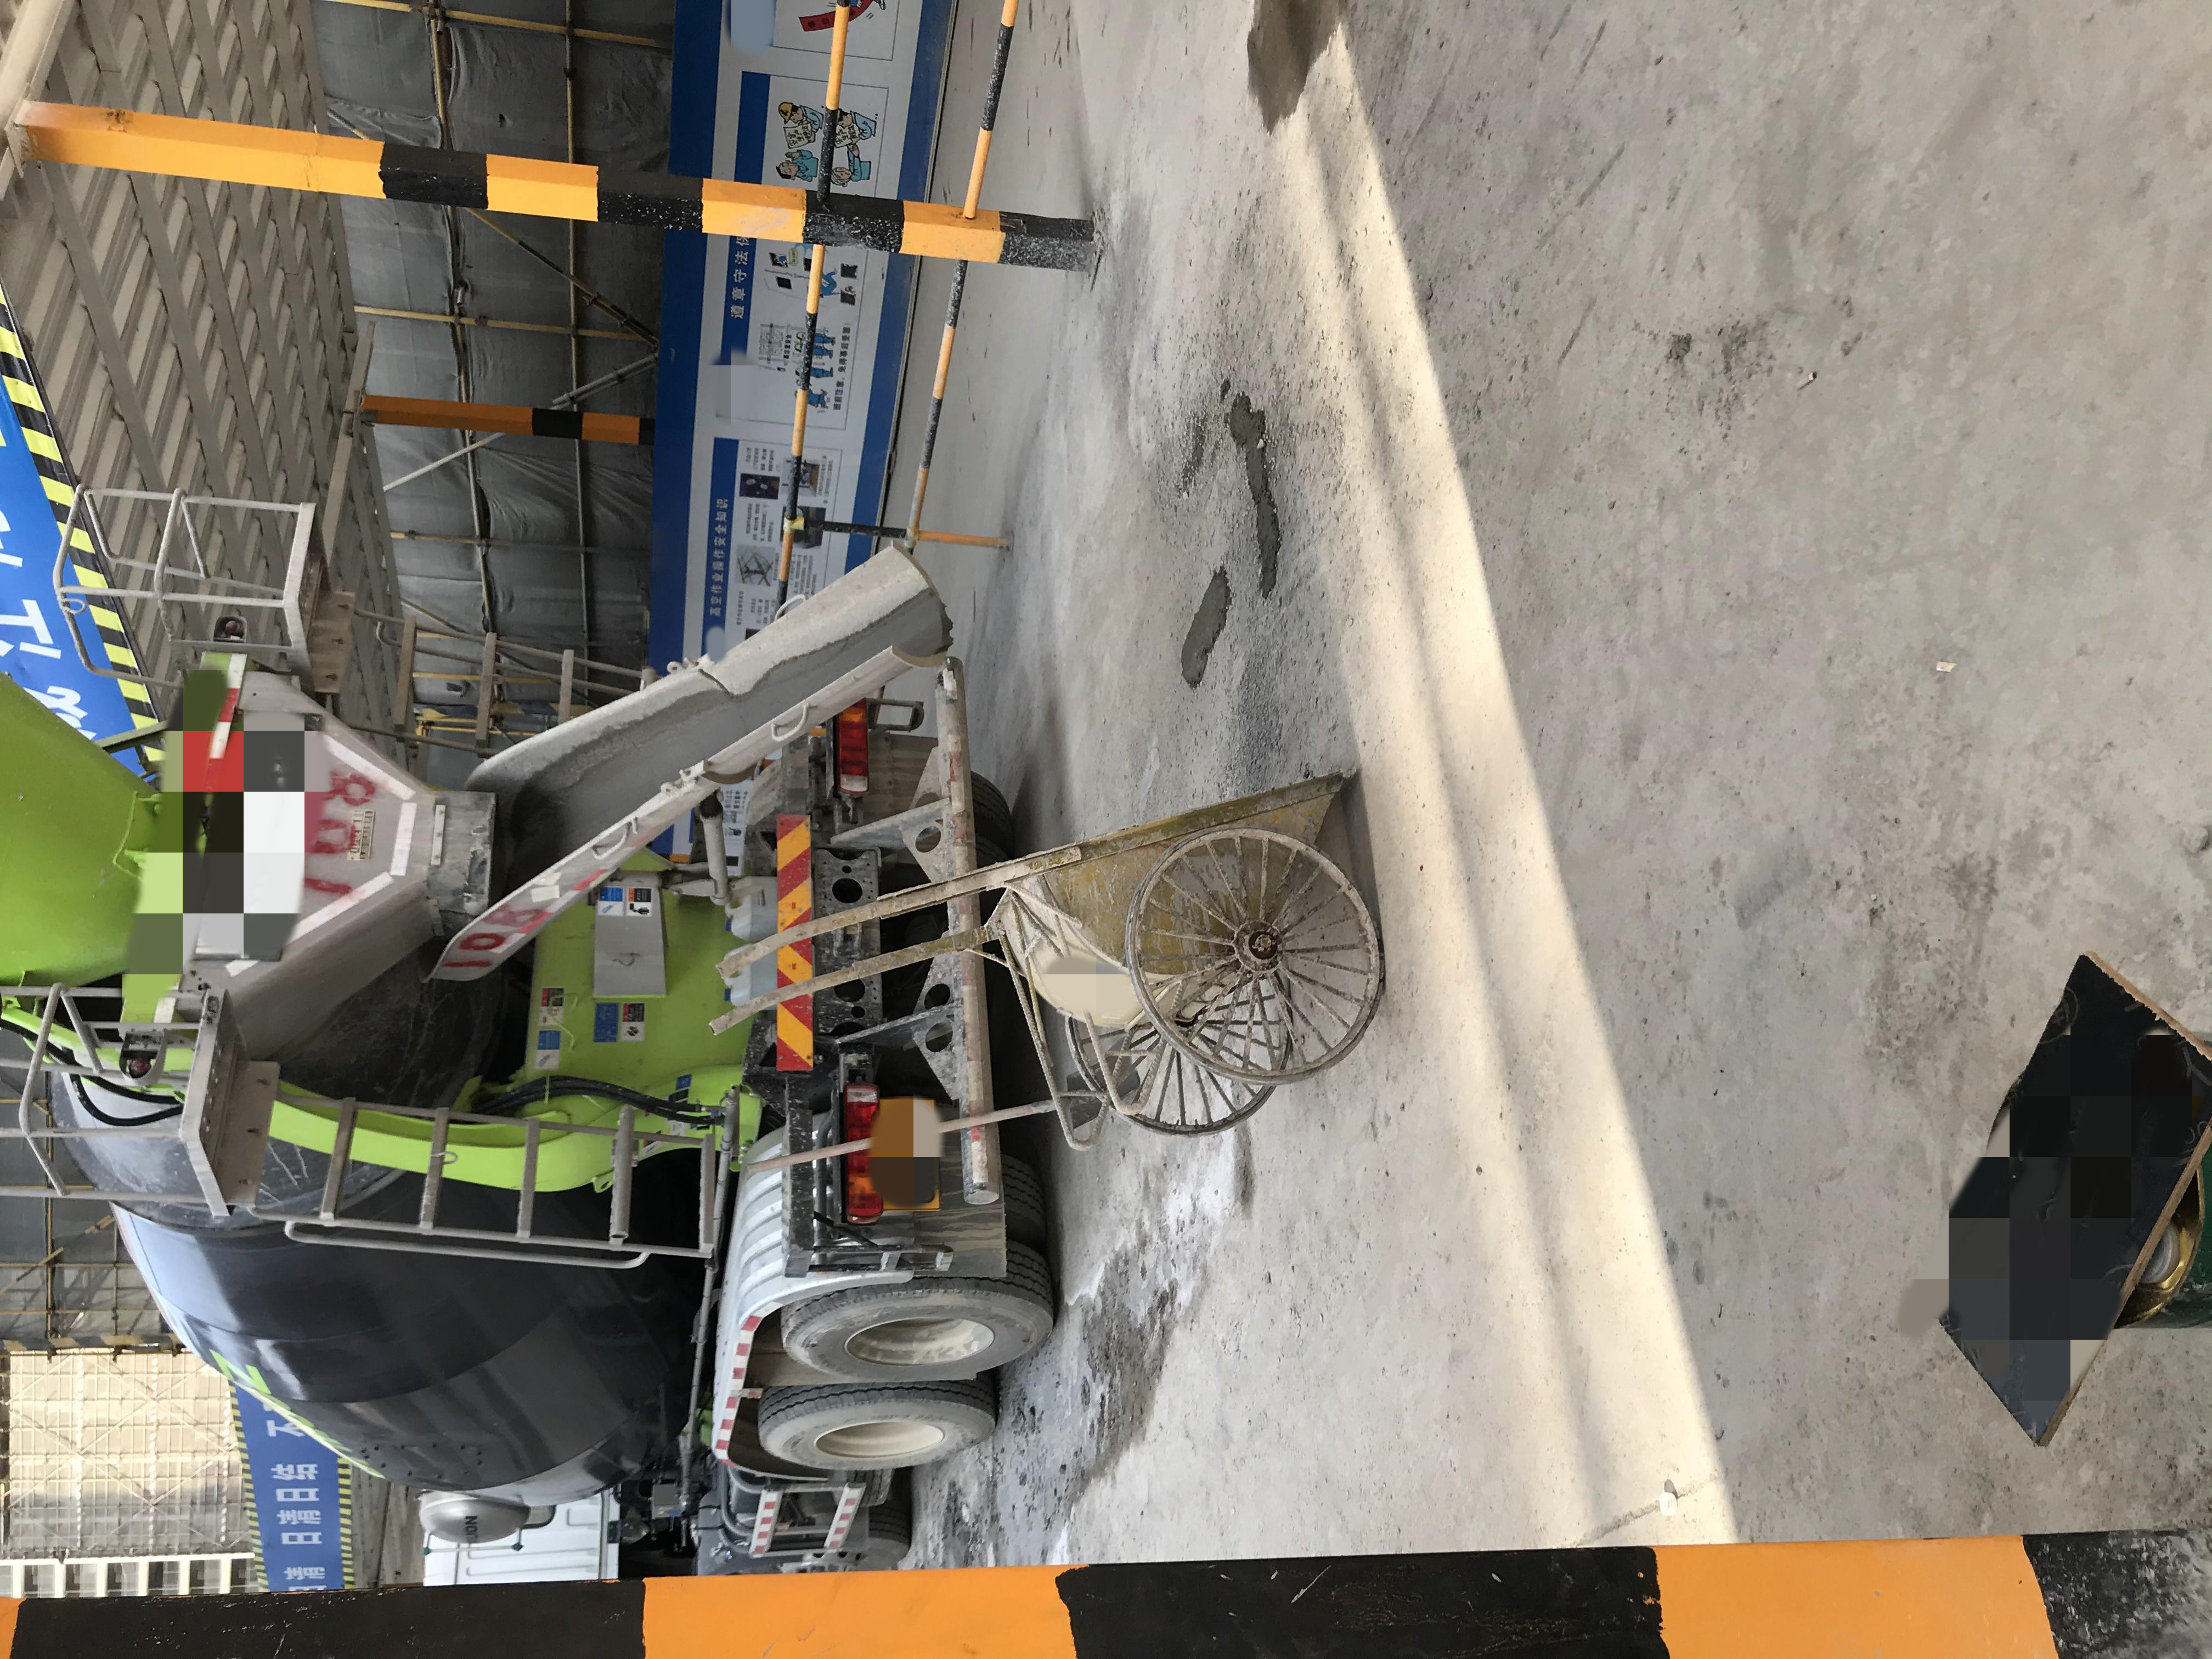handcart: (705, 749, 1395, 1166)
